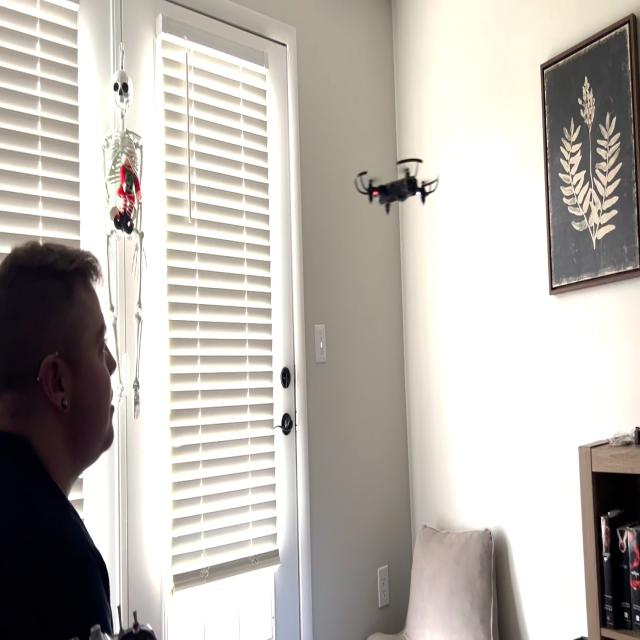drone: (350, 144, 446, 224)
